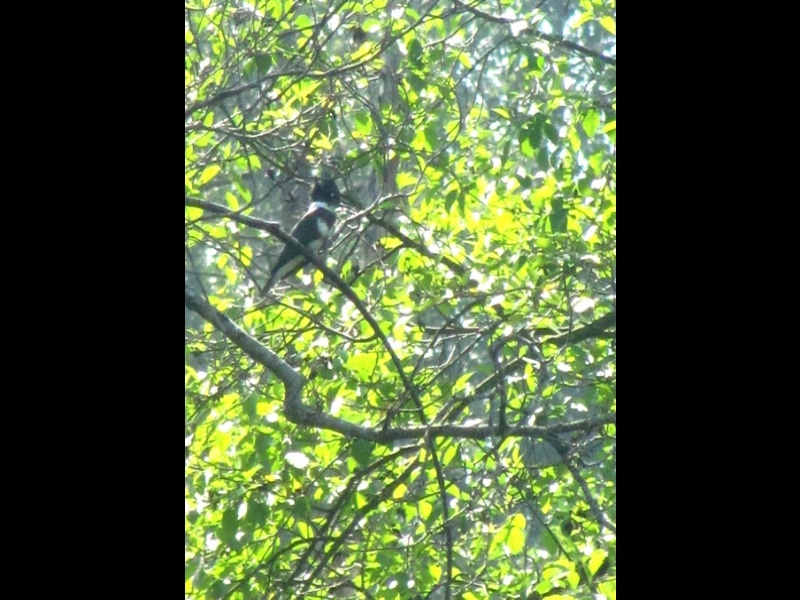kingfisher: (256, 176, 352, 300)
